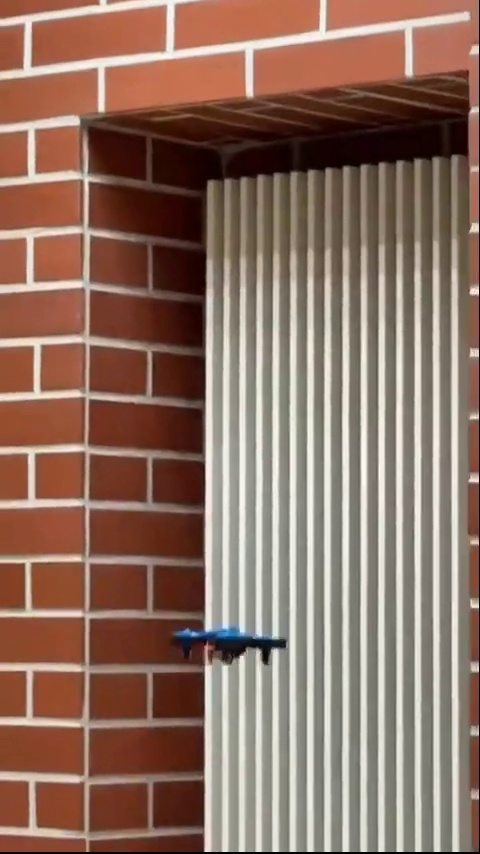drone: (172, 620, 292, 670)
